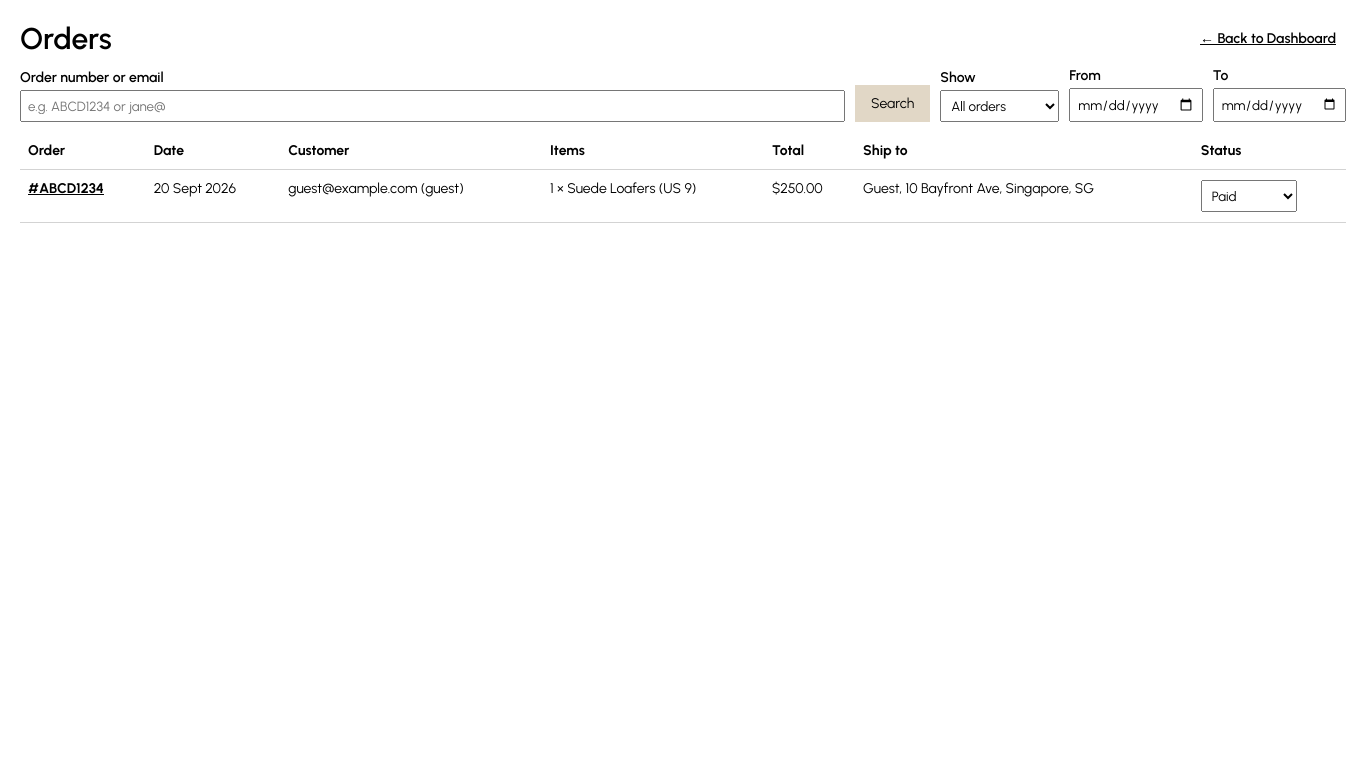
Test: AdminOrders › cancelling › cancels once confirmed, then shows Cancelled with no way to change it
The image size is (1366, 768).
Select "Cancelled" in the dropdown named "Status for order ABCD1234" at (1249, 196), box [1201, 180, 1297, 212]
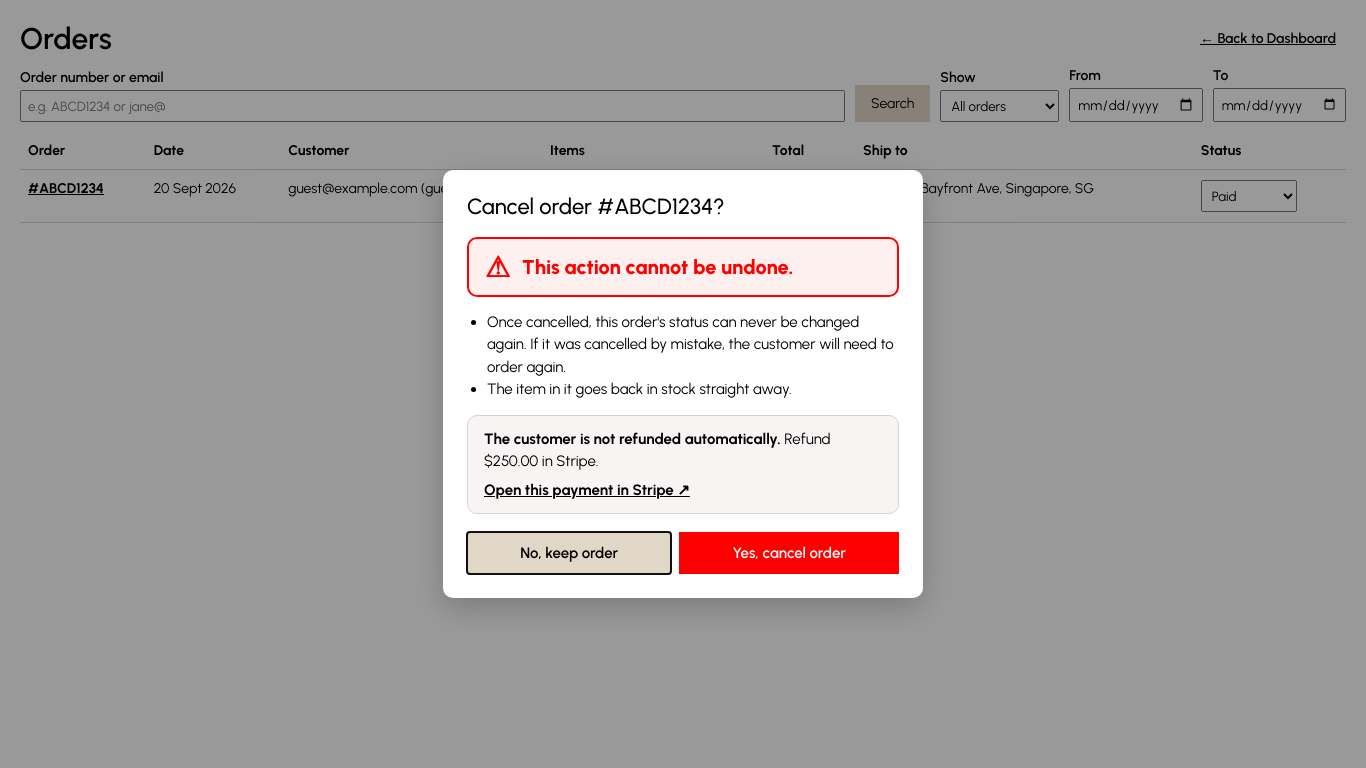
Click the button "Yes, cancel order".
click(789, 553)  # box [679, 532, 899, 574]
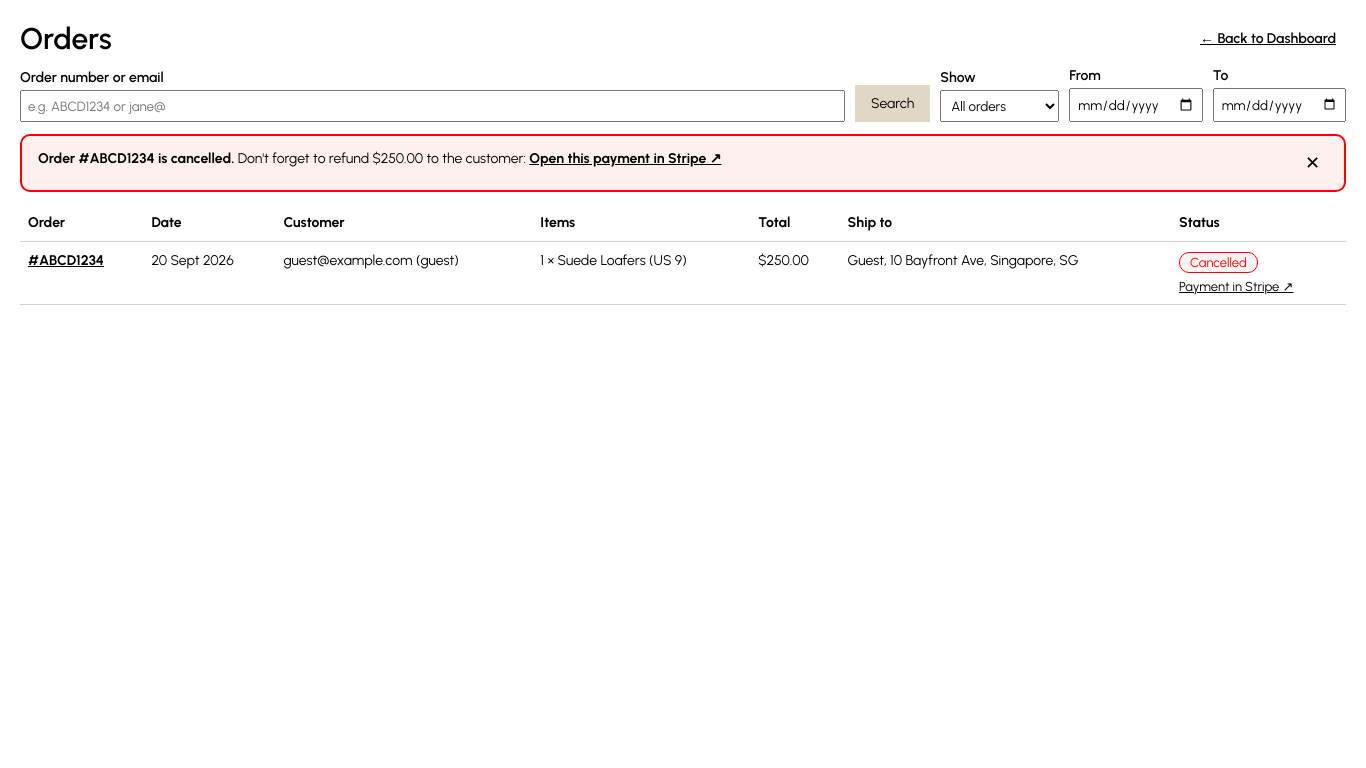
Expected: the text "Cancelled" is shown, [1179, 252, 1258, 273]
Expected: the dialog is gone
Expected: the message shows "Order #ABCD1234 is cancelled.", [20, 134, 1346, 192]
Click the button named "Dismiss refund reminder".
click(1312, 163)  # box [1297, 148, 1328, 178]
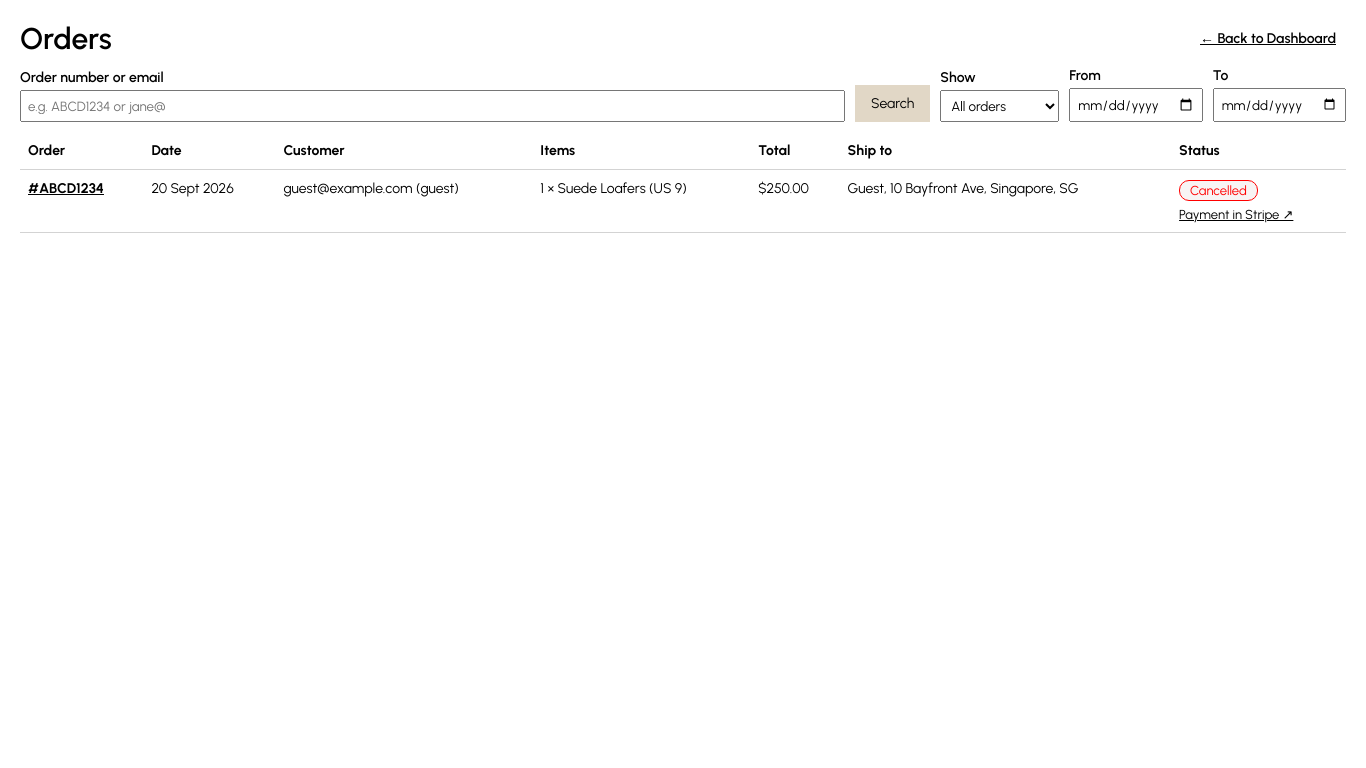
Expected: the message is gone
